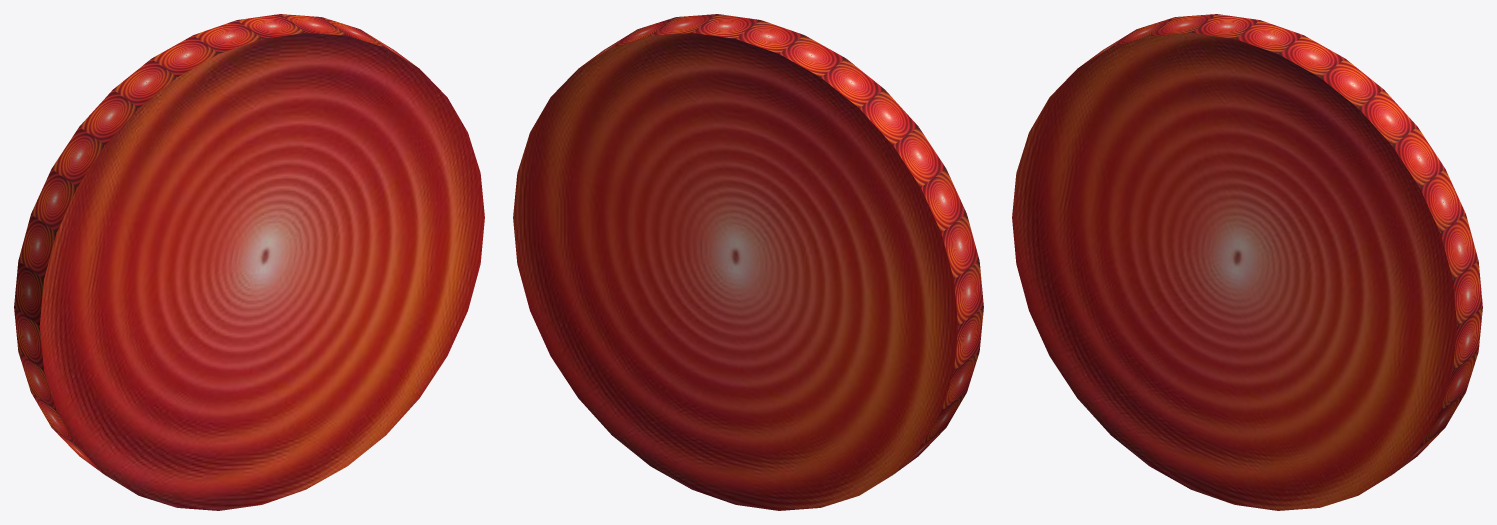
File: portail.obj
The picture shows the model from 3 angles, left to right: view 1: azimuth 30°, elevation 25°; view 2: azimuth 150°, elevation 25°; view 3: azimuth 330°, elevation 25°; orthographic projection.
Visible parts, largest first — view 1: Cylinder; view 2: Cylinder; view 3: Cylinder.
Part boxes in pixels (x1,y1,x2,y2): Cylinder: (14, 14, 484, 510); Cylinder: (513, 14, 983, 510); Cylinder: (1012, 14, 1482, 510).
Bounding box in the file's own units: 20 × 20 × 2.
1 material, 1 textured.
